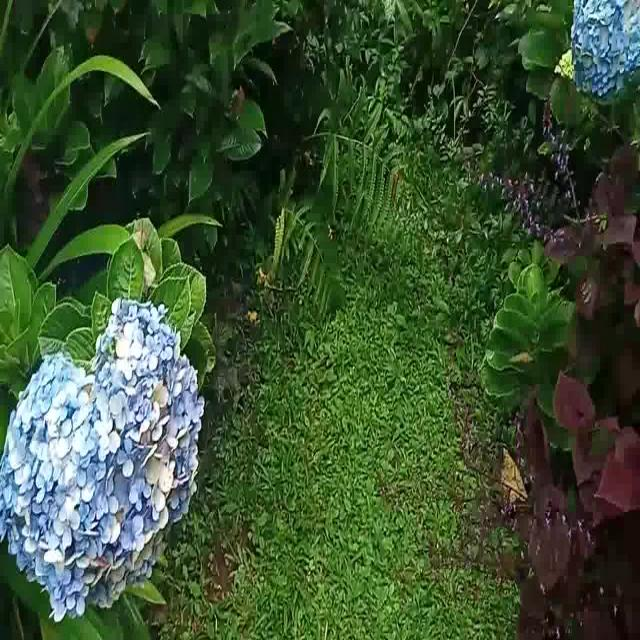Flower: (2, 295, 203, 626), (569, 1, 639, 98)
